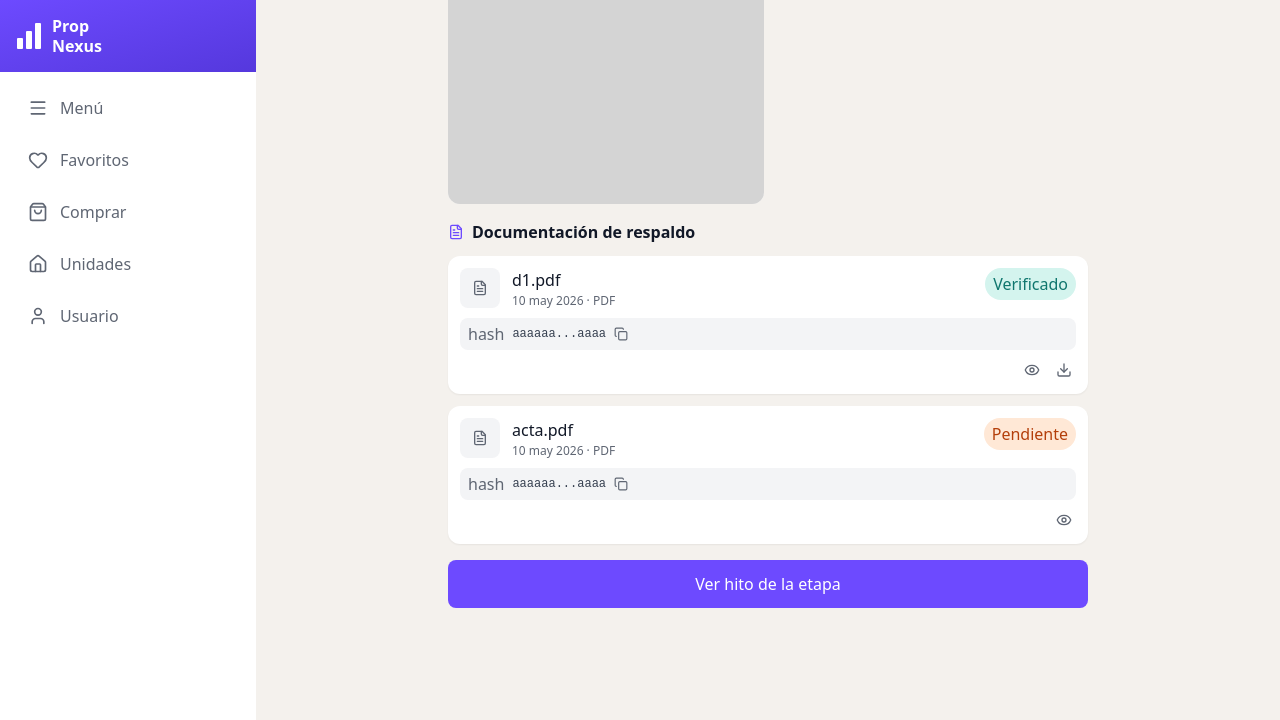
Test: /project/:projectId/stage/:stageId (investor) › INV-STAGE-DOCVIEW-002: el visor de un documento sin TXID dice Pendiente y no ofrece descarga
(page scrolled)
Click the button "acta.pdf": (542, 430) [512,418,972,442]
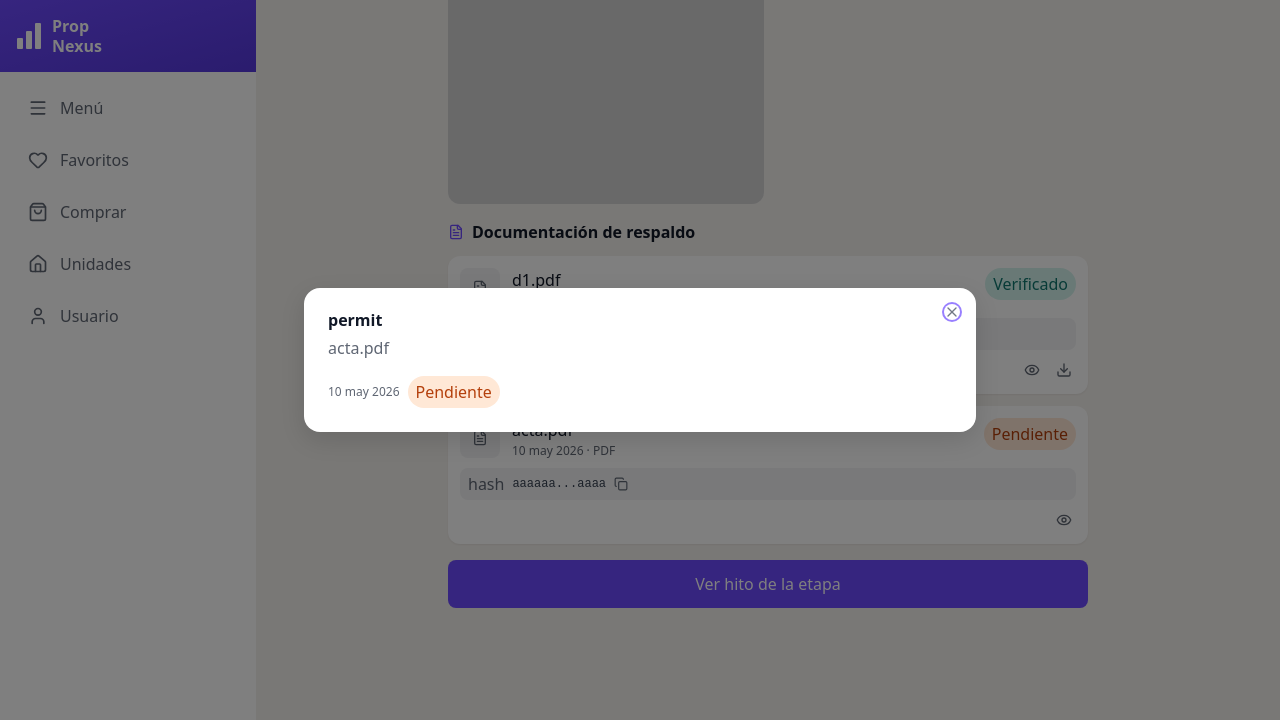
Result: the dialog with test id "INV-STAGE-DOCVIEW-002" shows "Pendiente" at [416,381,492,403]
